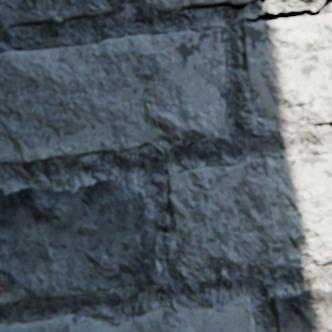brick: (0, 28, 225, 161), (0, 179, 157, 303), (168, 153, 331, 268), (242, 14, 331, 124), (0, 296, 255, 331), (0, 0, 129, 30), (272, 287, 331, 331), (149, 0, 252, 11)
crack: (246, 0, 331, 22), (177, 2, 245, 11)
